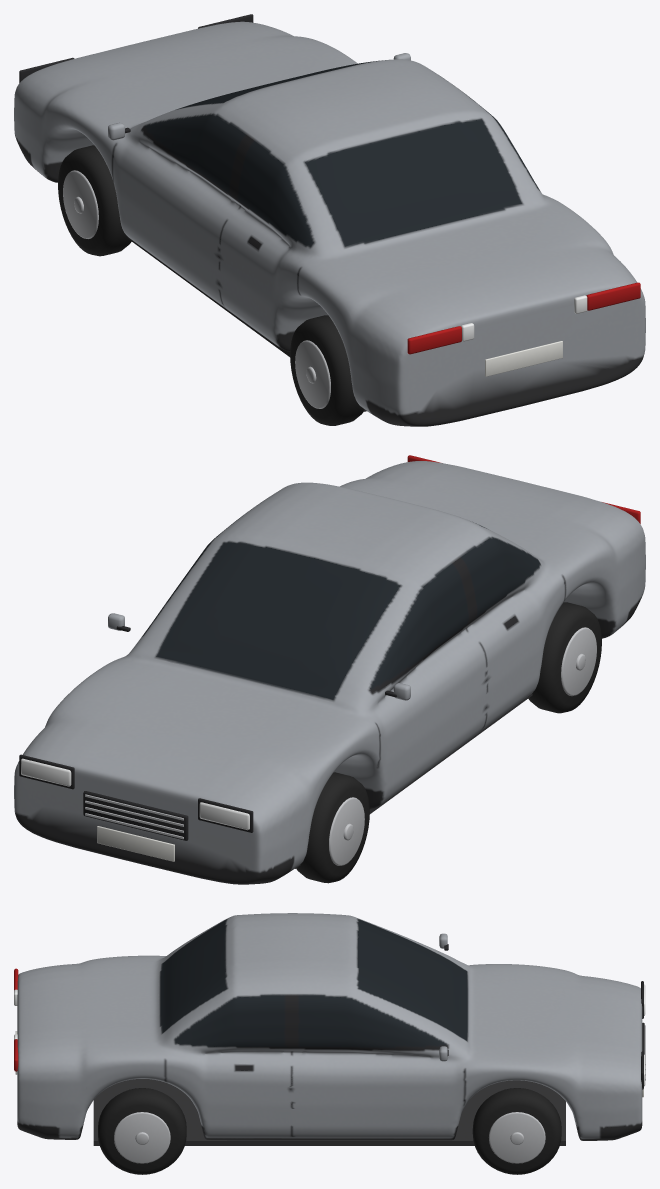
The model's file is SM_Sedan_LOD1.fbx.
3 renders of one model, top to bottom at view 1: azimuth 30°, elevation 25°; view 2: azimuth 150°, elevation 25°; view 3: azimuth 270°, elevation 25°, orthographic. The views are drawn at different scales.
Visible parts, largest first — view 1: SM_Sedan_LOD1; view 2: SM_Sedan_LOD1; view 3: SM_Sedan_LOD1.
Part boxes in pixels (left/top/right/bottom): SM_Sedan_LOD1: left=14, top=14, right=645, bottom=426; SM_Sedan_LOD1: left=14, top=455, right=645, bottom=884; SM_Sedan_LOD1: left=14, top=913, right=645, bottom=1174.
Size of the model in its own units: 2.02 by 1.45 by 4.55.
1 material, 1 textured.
